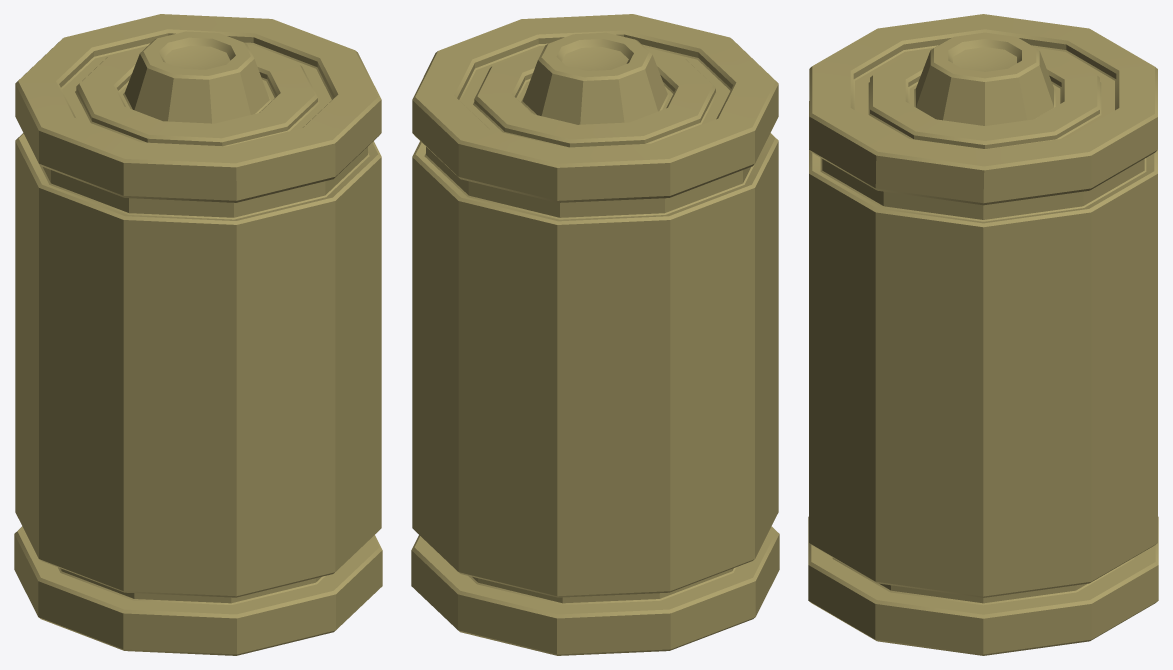
File: Battery.fbx
3 views of the same model, side by side, from view 1: azimuth 30°, elevation 25°; view 2: azimuth 150°, elevation 25°; view 3: azimuth 270°, elevation 25° (orthographic).
Visible parts, largest first — view 1: pCylinder3; view 2: pCylinder3; view 3: pCylinder3.
Boxes of the visible parts, x1,y1,x2,y2 form: pCylinder3: (14,14,382,655); pCylinder3: (411,14,779,655); pCylinder3: (808,14,1158,655).
Bounding box in the file's own units: 1.98 × 3.11 × 1.88.
